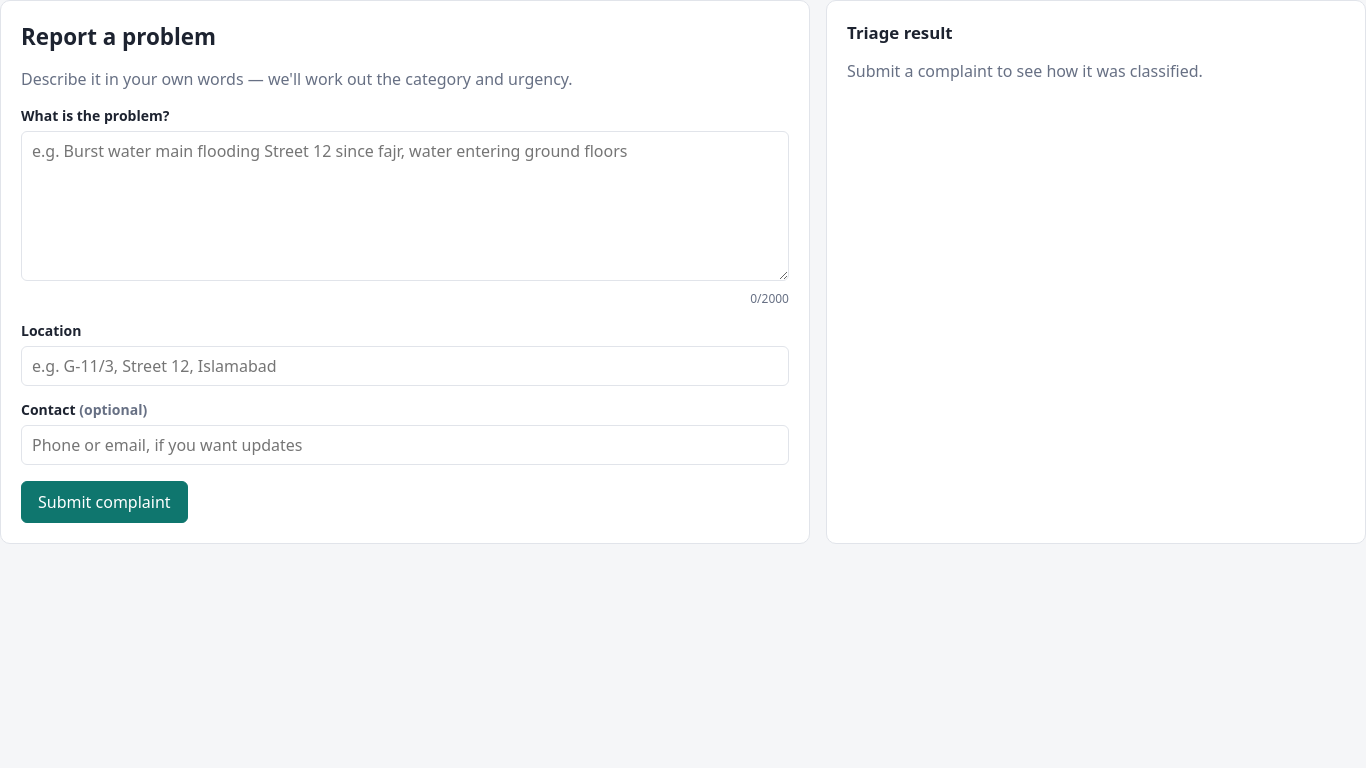
SubmitPage › explains a rules fallback to the citizen
The width and height of the screenshot is (1366, 768).
Type "Burst water main flooding Street 12" into the text box labelled "What is the problem?" at [405, 206], box [21,131,789,281]
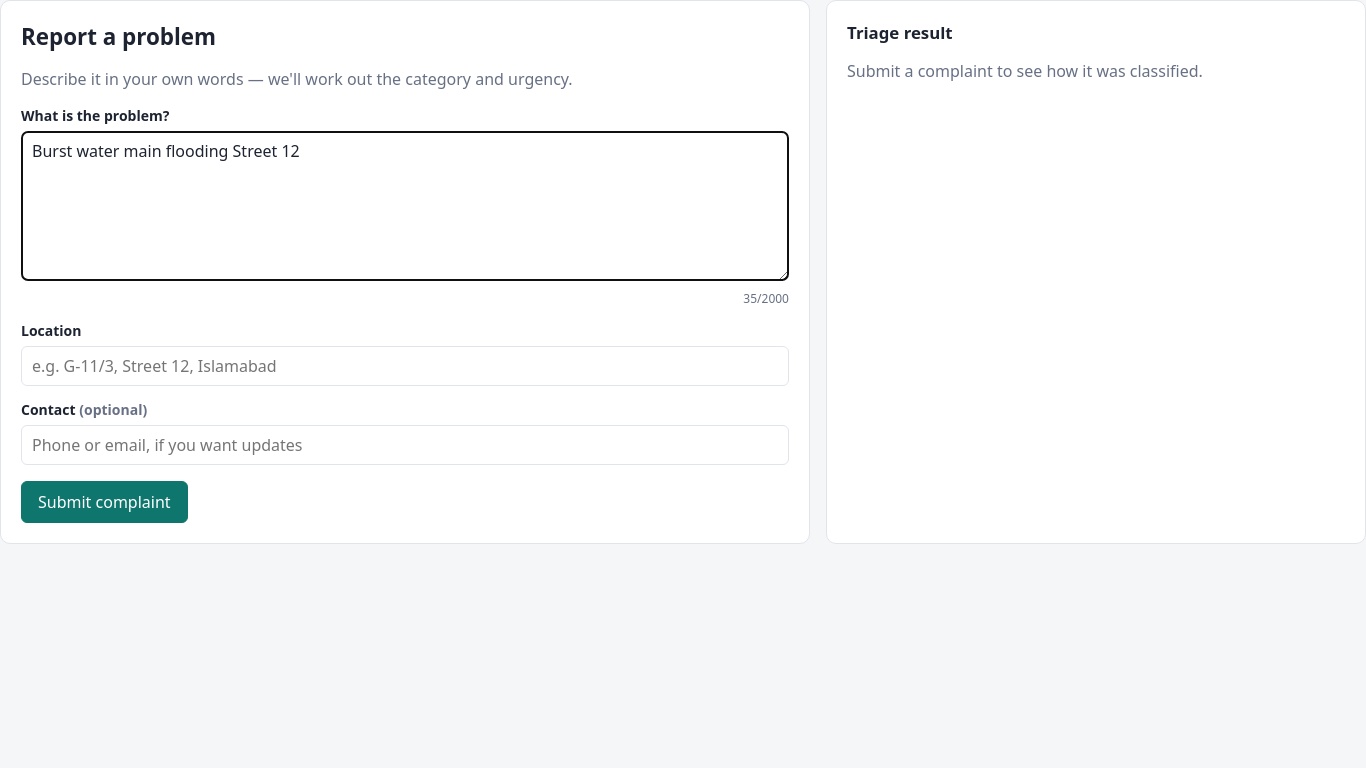
Type "G-11/3" into the field labelled "Location" at [405, 366], box [21,346,789,386]
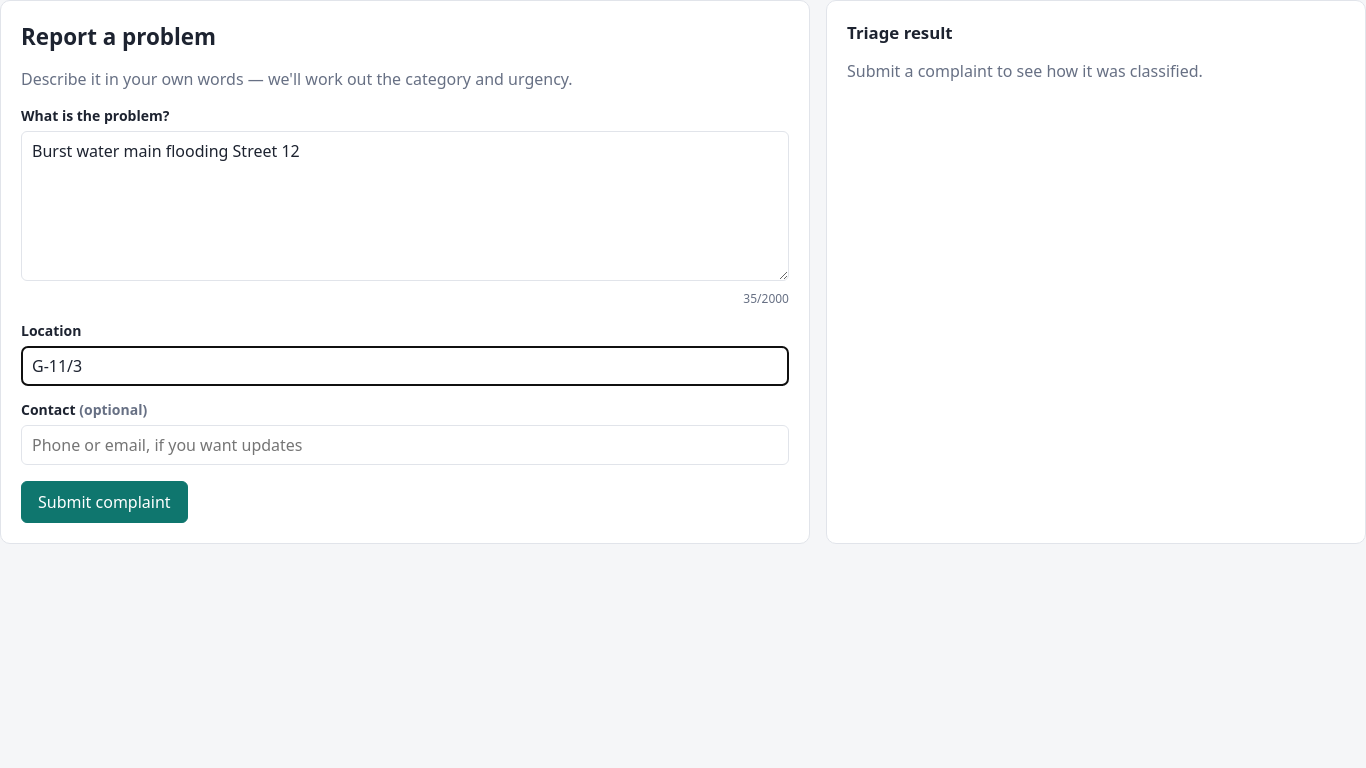
Click the button "Submit complaint" at [104, 502], box [21,481,188,523]
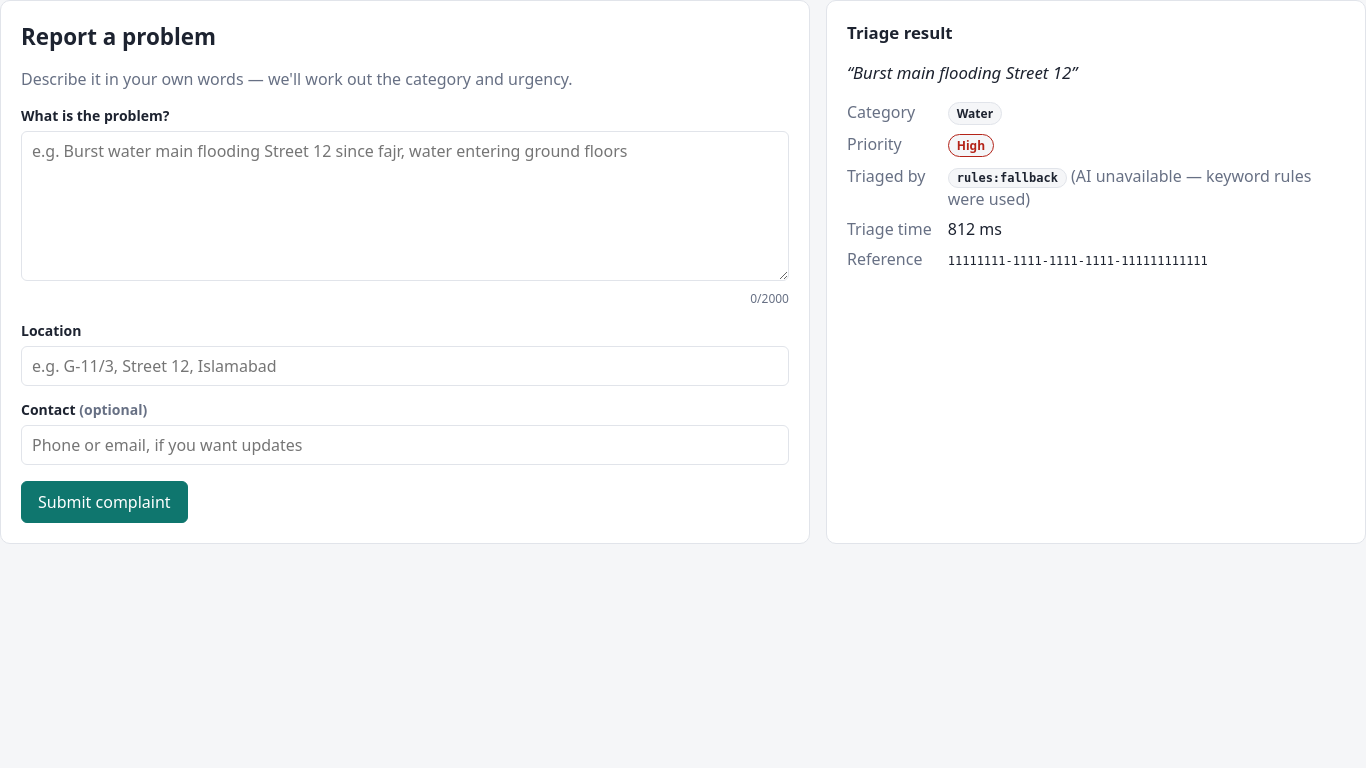
Expected: the text "(AI unavailable — keyword rules were used)" is shown, [948,165,1311,210]
